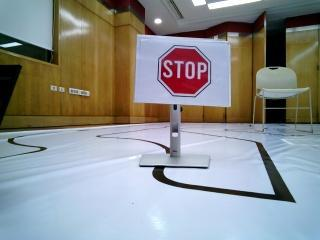stop: (137, 38, 222, 109)
